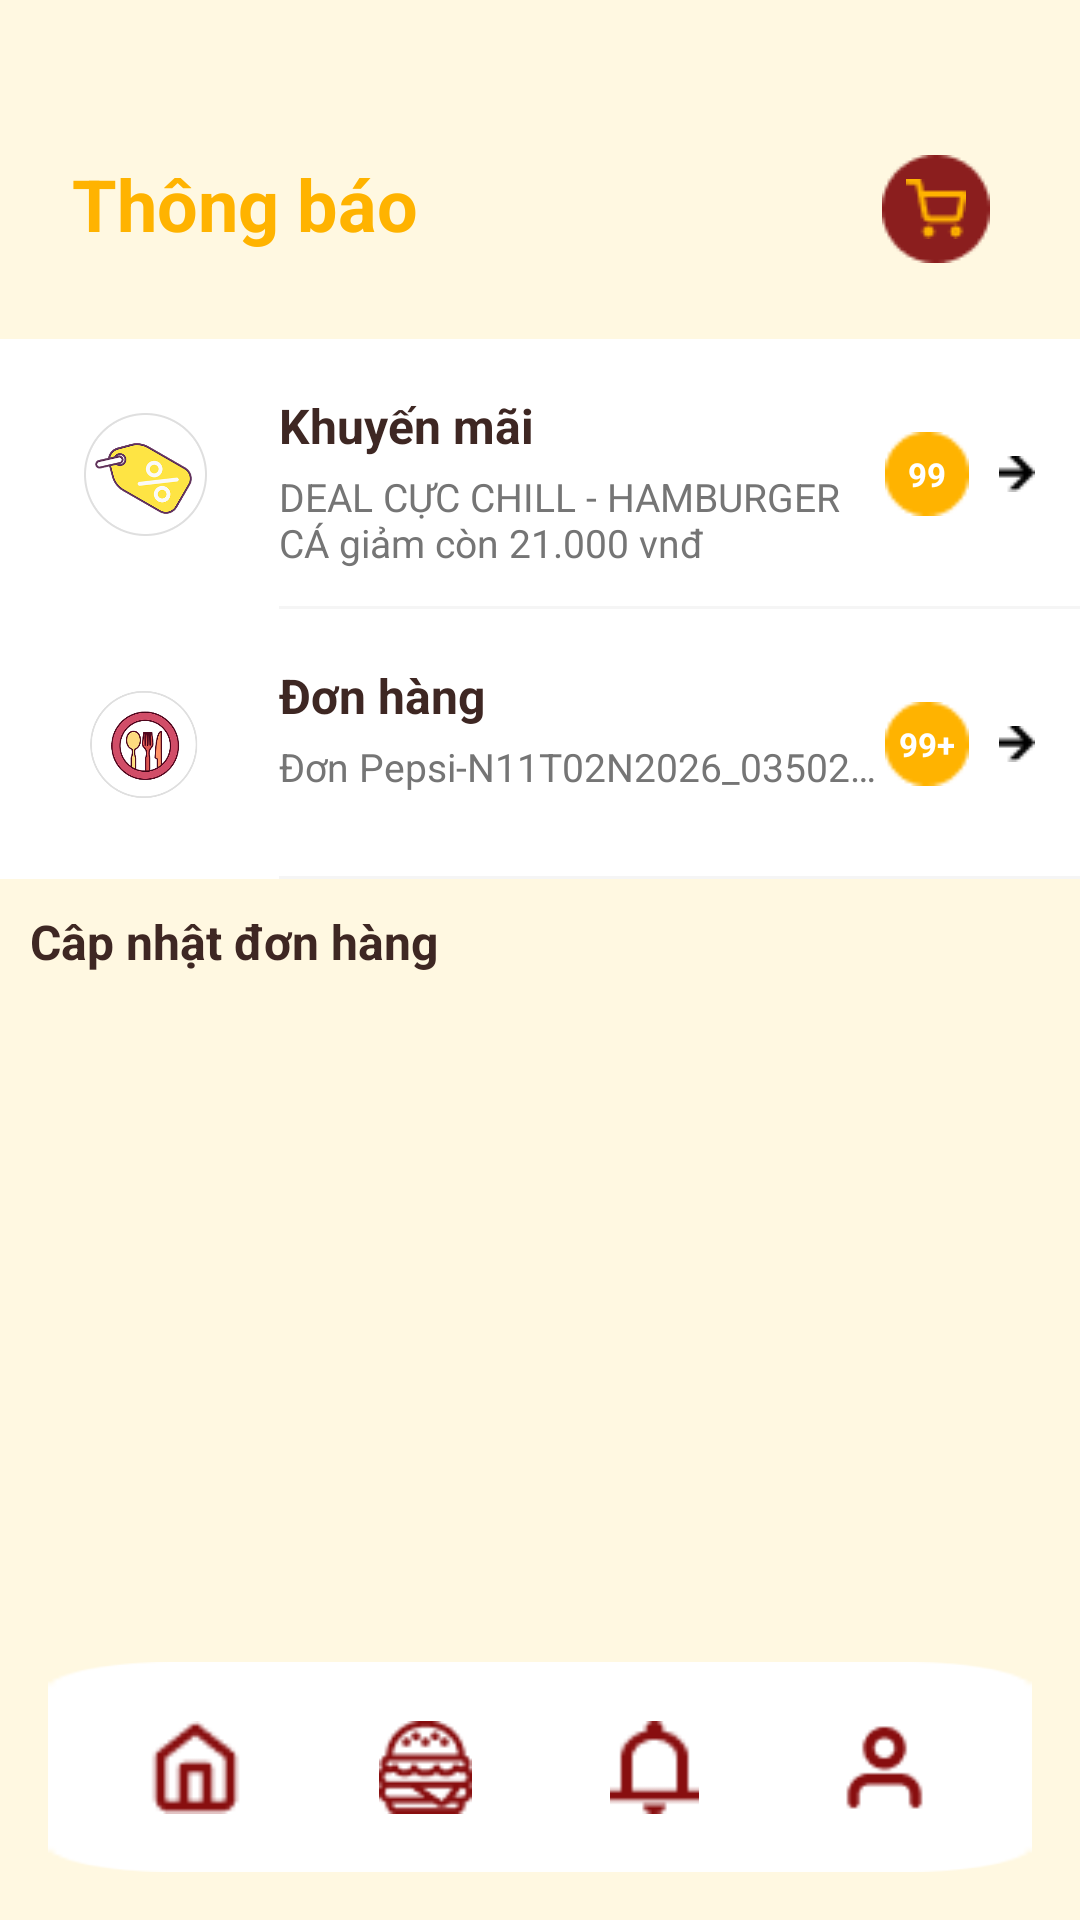

Icons on this 1080px x 1920px Android screen, each with its box as (x1, y1, x2, y2):
arrow right: (999, 456, 1035, 492), (999, 726, 1035, 762)
food nof: (90, 691, 197, 798)
Gio hang: (882, 155, 990, 263)
sale nof: (84, 413, 207, 536)
Thông báo: (610, 1721, 699, 1814)
Trang chủ: (152, 1721, 239, 1814)
Tài khoản: (846, 1726, 923, 1809)
Đồ ăn: (379, 1721, 472, 1814)
